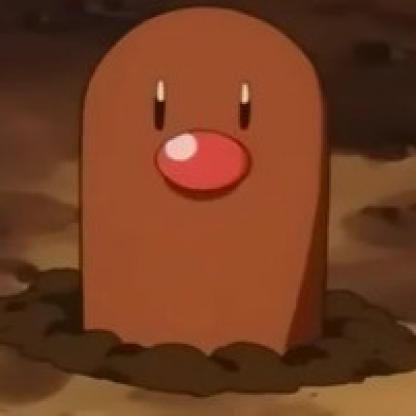Diglett: (15, 1, 415, 398)
